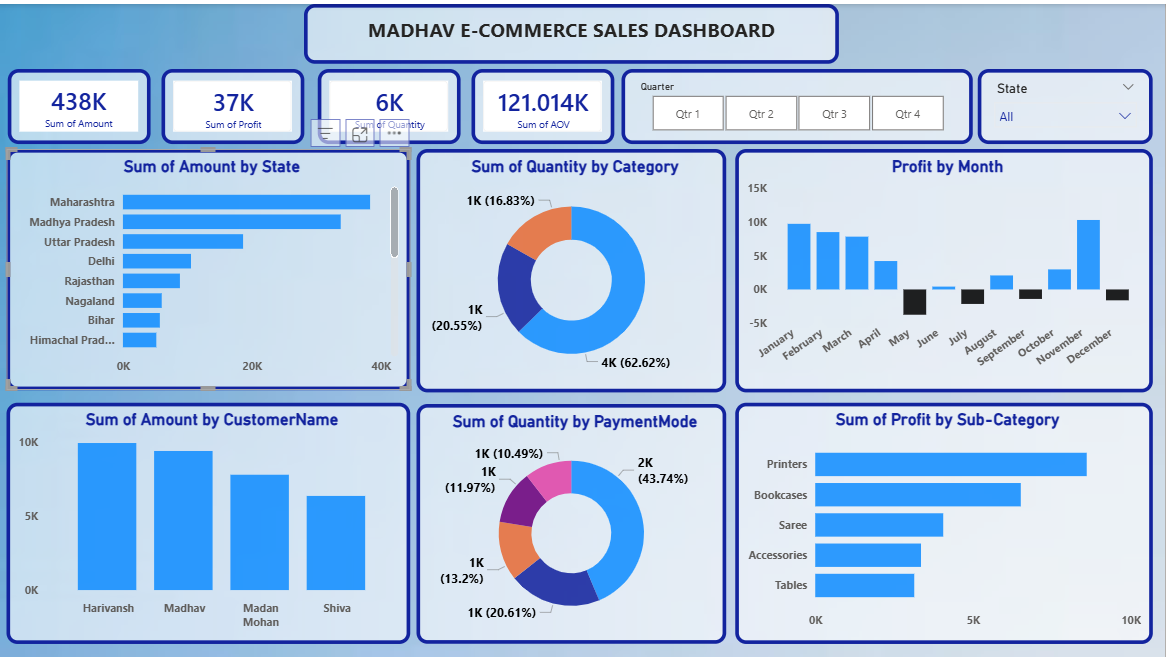

This screenshot's page, from the dashboard's own definition file:
{"tool":"powerbi","page":{"name":"Page 1","canvas":[1280,720],"ordinal":0},"visuals":[{"type":"textbox","box":[334.8,0,587.3,65.9],"z":0},{"type":"columnChart","title":"Profit by Month","fields":{"Y":["Sum(Details.Profit)"],"Category":["Orders.Order Date.Variation.Date Hierarchy.Month"]},"box":[808.2,159.2,458.3,267.6],"z":1000},{"type":"barChart","fields":{"Category":["Details.Sub-Category"],"Y":["Sum(Details.Profit)"]},"box":[808.2,437.7,458.3,264.8],"z":2000},{"type":"donutChart","fields":{"Category":["Details.Category"],"Y":["Sum(Details.Quantity)"]},"box":[458.3,159.2,340.3,267.6],"z":3000},{"type":"donutChart","fields":{"Y":["Sum(Details.Quantity)"],"Category":["Details.PaymentMode"]},"box":[458.3,439.1,340.3,263.5],"z":4000},{"type":"cardVisual","fields":{"Data":["Sum(Details.Amount)"]},"box":[9.6,71.7,156.4,82.3],"z":5000},{"type":"cardVisual","fields":{"Data":["Sum(Details.Profit)"]},"box":[178.4,71.7,156.4,82.3],"z":6000},{"type":"cardVisual","fields":{"Data":["Sum(Details.Quantity)"]},"box":[349.9,71.7,156.4,82.3],"z":7000},{"type":"cardVisual","fields":{"Data":["Sum(Details.AOV)"]},"box":[518.7,71.7,156.4,82.3],"z":8000},{"type":"barChart","fields":{"Category":["Orders.State"],"Y":["Sum(Details.Amount)"]},"box":[8.2,159.2,443.2,264.8],"z":9000},{"type":"columnChart","fields":{"Category":["Orders.CustomerName"],"Y":["Sum(Details.Amount)"]},"box":[8.2,437.7,443.2,264.8],"z":10000},{"type":"slicer","fields":{"Values":["Orders.Order Date.Variation.Date Hierarchy.Quarter"]},"box":[683.4,71.4,385.6,82.3],"z":10001},{"type":"slicer","fields":{"Values":["Orders.State"]},"box":[1074.4,71.4,192.1,82.3],"z":10002}]}

Visuals, with their boxes in screenshot pixels (x1, y1, x2, y2), scaled from the page's 1280x720 canvas onto the 1166x657 screenshot:
textbox: 305, 0, 840, 60
"Profit by Month" columnChart: 736, 145, 1154, 389
barChart - Details.Sub-Category x Sum(Details.Profit): 736, 399, 1154, 641
donutChart - Details.Category x Sum(Details.Quantity): 417, 145, 727, 389
donutChart - Sum(Details.Quantity) x Details.PaymentMode: 417, 401, 727, 641
cardVisual - Sum(Details.Amount): 9, 65, 151, 141
cardVisual - Sum(Details.Profit): 163, 65, 305, 141
cardVisual - Sum(Details.Quantity): 319, 65, 461, 141
cardVisual - Sum(Details.AOV): 473, 65, 615, 141
barChart - Orders.State x Sum(Details.Amount): 7, 145, 411, 387
columnChart - Orders.CustomerName x Sum(Details.Amount): 7, 399, 411, 641
slicer - Orders.Order Date.Variation.Date Hierarchy.Quarter: 623, 65, 974, 140
slicer - Orders.State: 979, 65, 1154, 140
